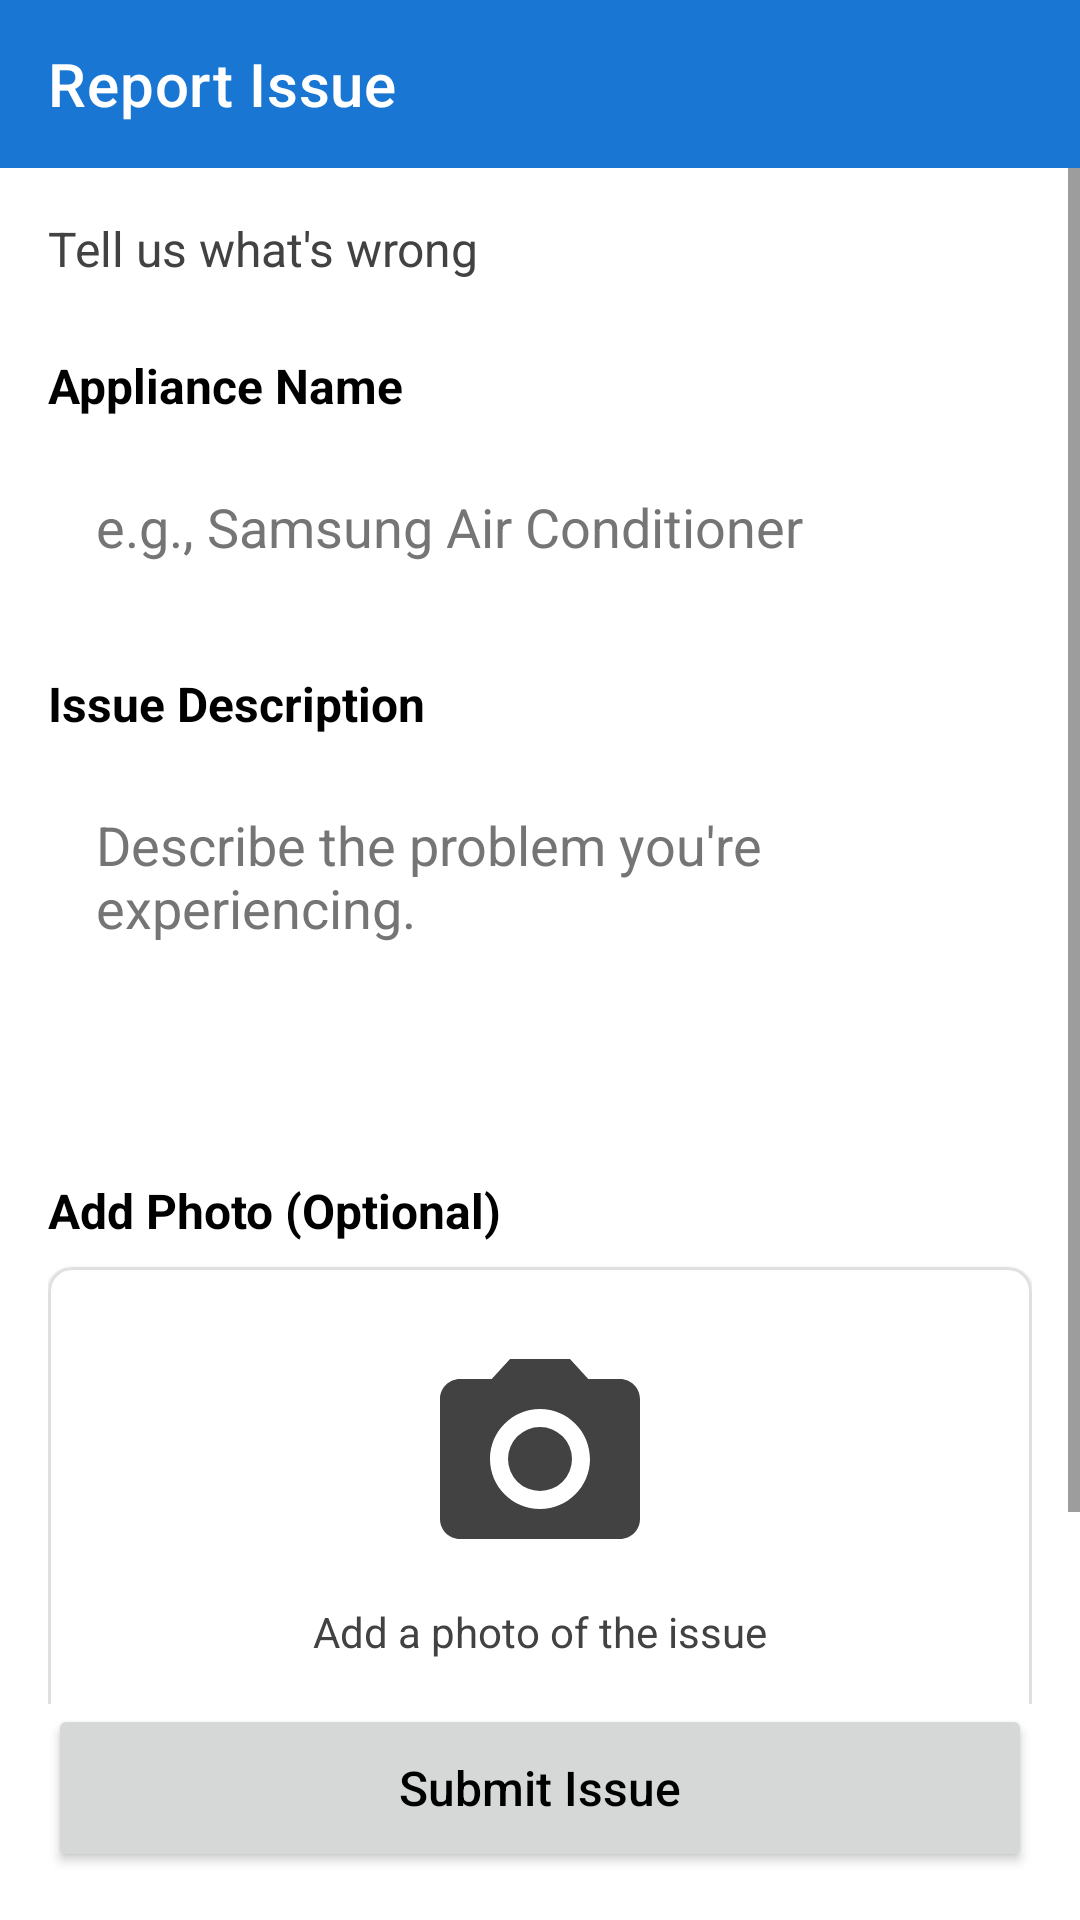

Point at icon controls on the screen. Image size 1080 × 1920, points as [x,y].
camera: [540,1449]
